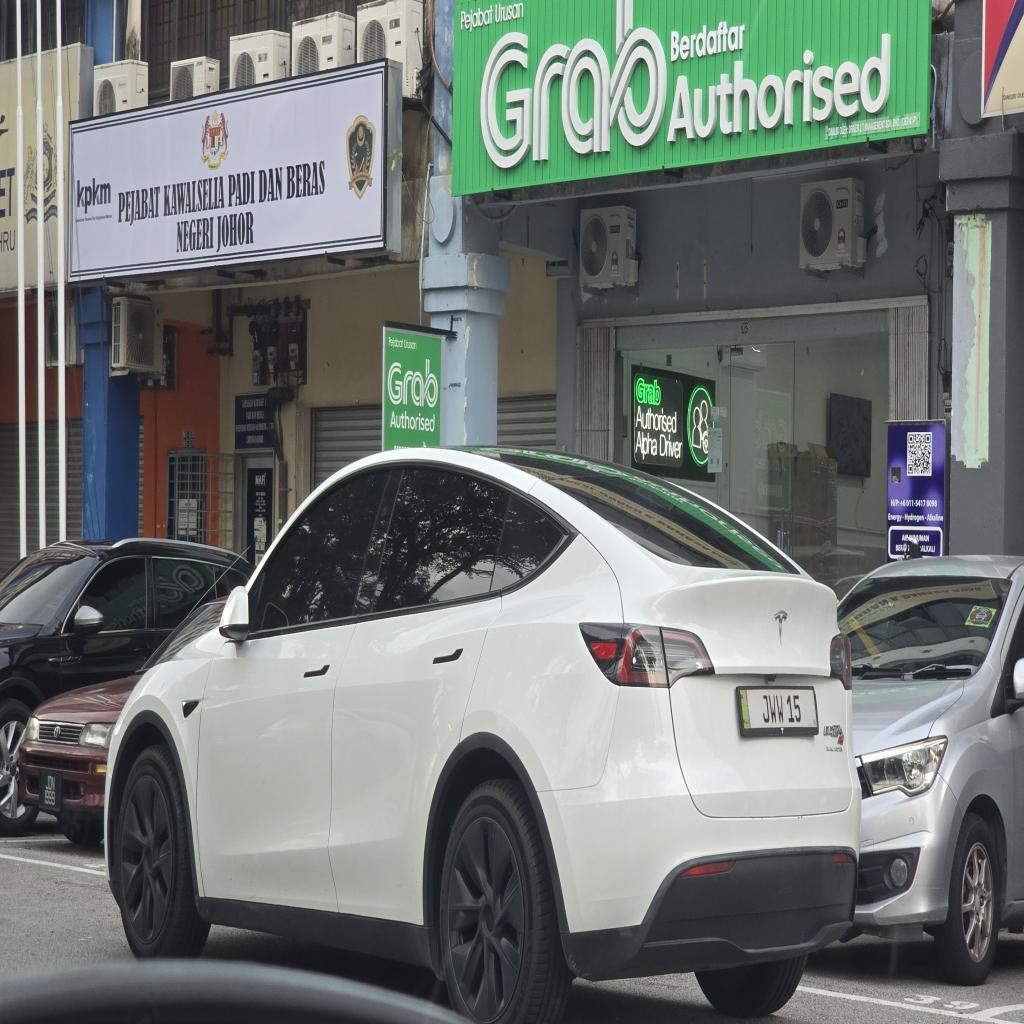car: (106, 450, 859, 1023)
car plate: (736, 687, 818, 736)
